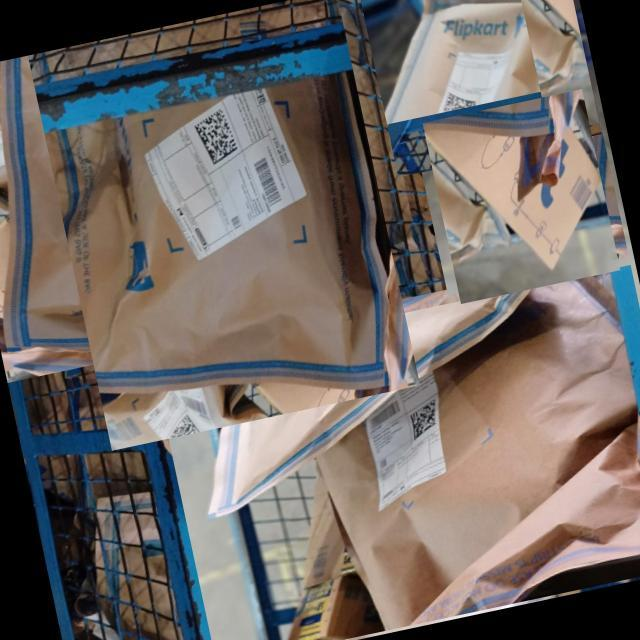cardboxes: (0, 0, 453, 416), (152, 263, 640, 640), (363, 0, 596, 182)
